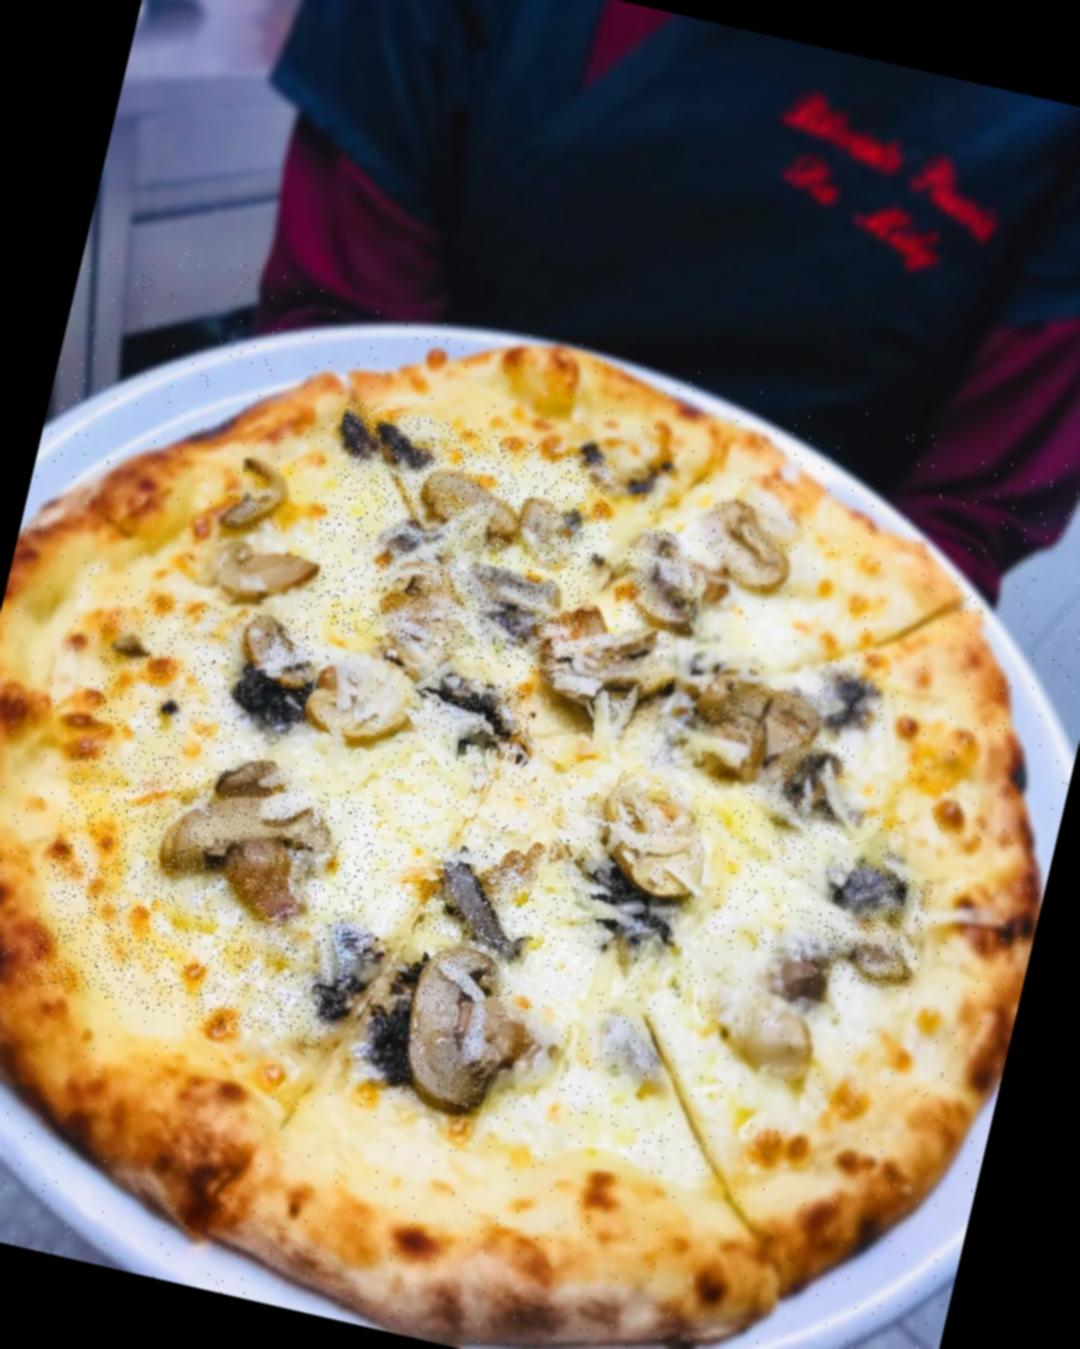Cheese: (23, 736, 384, 1054), (296, 400, 619, 684), (504, 907, 757, 1172), (336, 741, 609, 967), (705, 784, 906, 978), (87, 586, 271, 766)
Mushroom: (160, 745, 356, 929), (393, 943, 519, 1114), (417, 467, 588, 572), (813, 860, 933, 994), (595, 770, 716, 900), (538, 606, 676, 720), (696, 979, 833, 1091), (367, 555, 476, 681), (418, 842, 540, 953), (301, 652, 429, 753), (583, 879, 695, 983), (414, 666, 537, 760), (696, 494, 802, 598), (615, 526, 712, 632), (698, 672, 818, 756), (216, 540, 328, 616), (233, 609, 320, 698), (769, 733, 850, 820), (812, 652, 892, 735), (222, 456, 293, 536)
Pizza: (0, 229, 1080, 1349)
